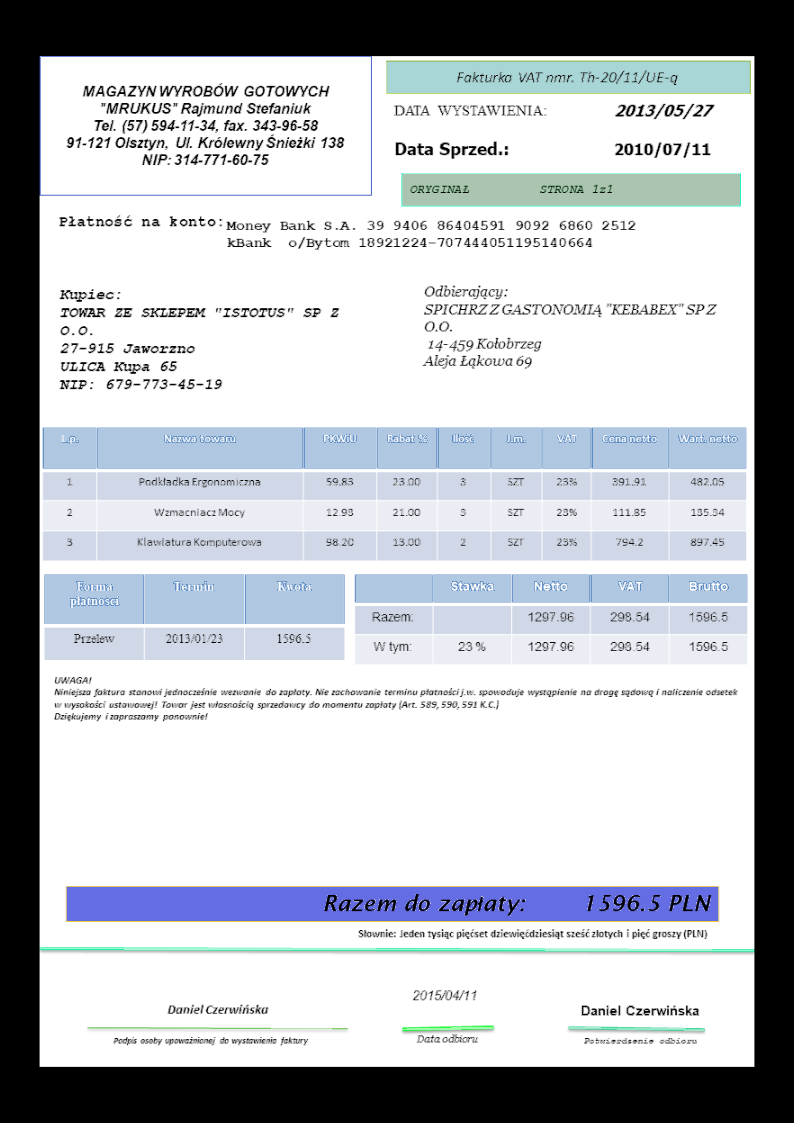Table: (41, 425, 752, 566), (354, 571, 749, 669), (43, 572, 347, 662)
TextBox: (49, 673, 740, 727), (56, 287, 343, 393), (420, 282, 719, 371), (61, 82, 351, 171), (225, 217, 638, 250), (318, 889, 715, 917), (354, 925, 710, 941), (452, 68, 681, 89), (409, 179, 617, 197), (391, 99, 549, 122), (54, 212, 227, 230), (110, 1034, 311, 1049), (392, 138, 511, 160), (577, 1002, 701, 1021), (610, 139, 714, 161), (608, 100, 716, 121), (164, 1001, 270, 1016), (579, 1034, 700, 1046), (409, 987, 478, 1002), (414, 1033, 481, 1044)
